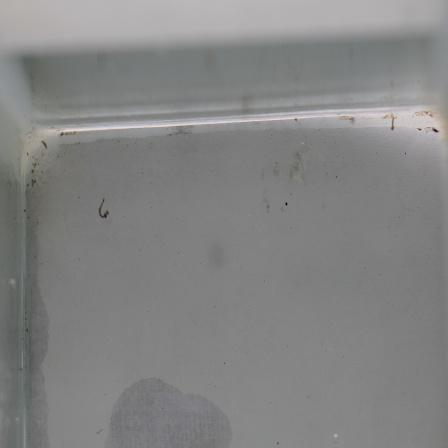Jentik-Nyamuk: (96, 196, 115, 222)
